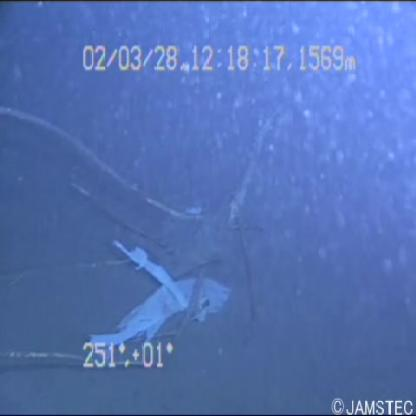Rác: (76, 220, 246, 372)
